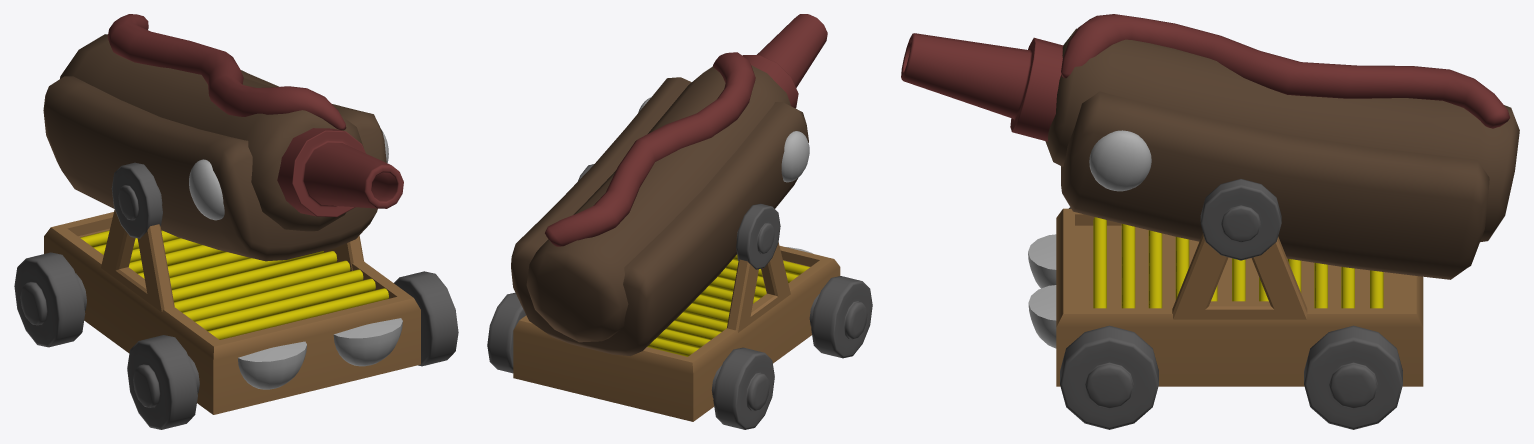
The model's file is newHotDogTier1Seperated.fbx.
3 views of the same model, side by side, from view 1: azimuth 30°, elevation 25°; view 2: azimuth 150°, elevation 25°; view 3: azimuth 270°, elevation 25° (orthographic). The views are drawn at different scales.
Visible parts, largest first — view 1: BASE_UVED, CONDIMENT_UVED; view 2: CONDIMENT_UVED, BASE_UVED; view 3: CONDIMENT_UVED, BASE_UVED.
Boxes of the visible parts, x1,y1,x2,y2 form: BASE_UVED: (14,162,458,429); CONDIMENT_UVED: (43,14,403,261); CONDIMENT_UVED: (511,14,827,356); BASE_UVED: (487,164,872,429); CONDIMENT_UVED: (901,14,1519,279); BASE_UVED: (1028,179,1423,429).
Bounding box in the file's own units: 0.1625 × 0.1592 × 0.2673.
